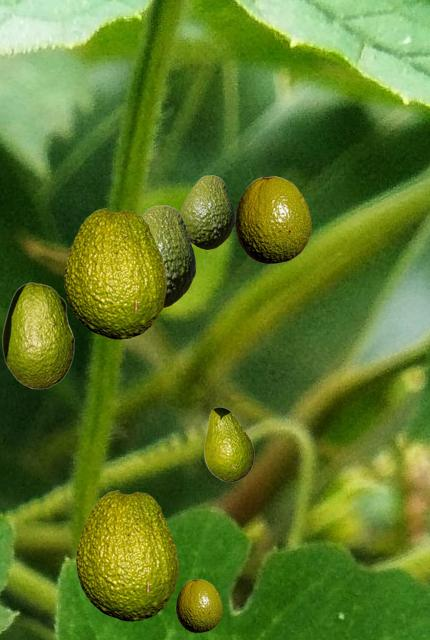avocado: (76, 490, 177, 620), (64, 208, 165, 338), (2, 282, 73, 388), (235, 176, 310, 262), (142, 205, 194, 307), (180, 175, 233, 248), (204, 407, 253, 481), (176, 579, 221, 631)
